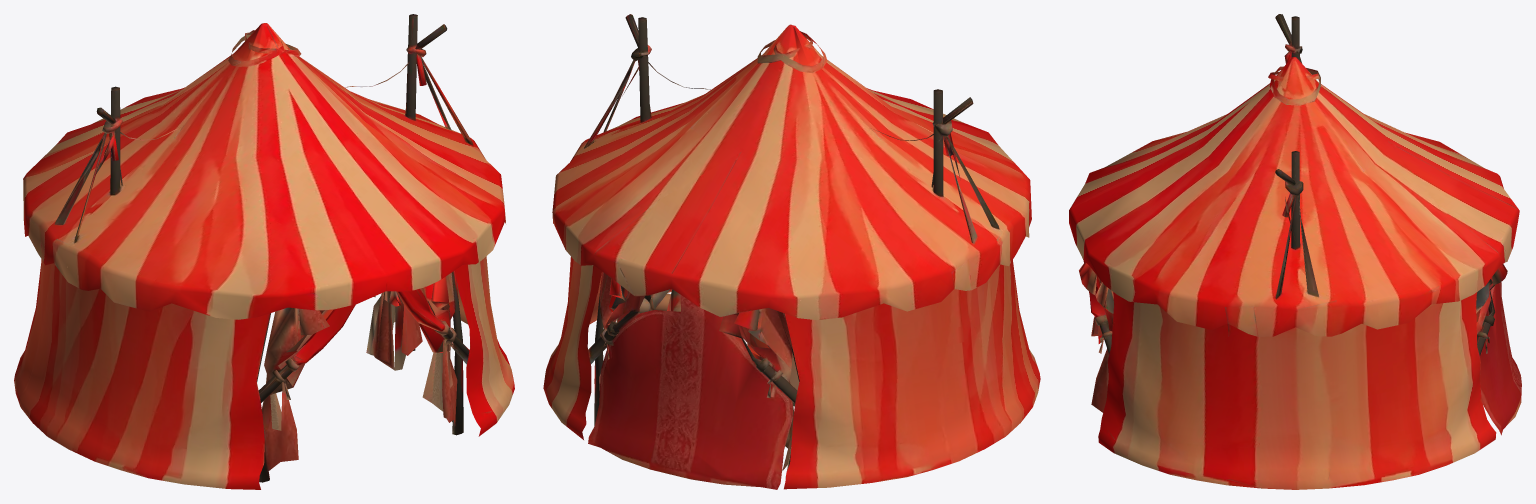
File: tailorTent.glb
The picture shows the model from 3 angles, left to right: view 1: azimuth 30°, elevation 25°; view 2: azimuth 150°, elevation 25°; view 3: azimuth 270°, elevation 25°; orthographic projection. The views are drawn at different scales.
Bounding box in the file's own units: 0.9487 × 0.7637 × 0.9292.
Materials: 1 (1 with a texture image).
